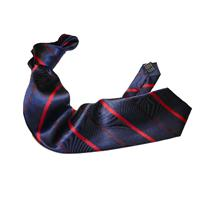tie: (23, 34, 192, 152)
